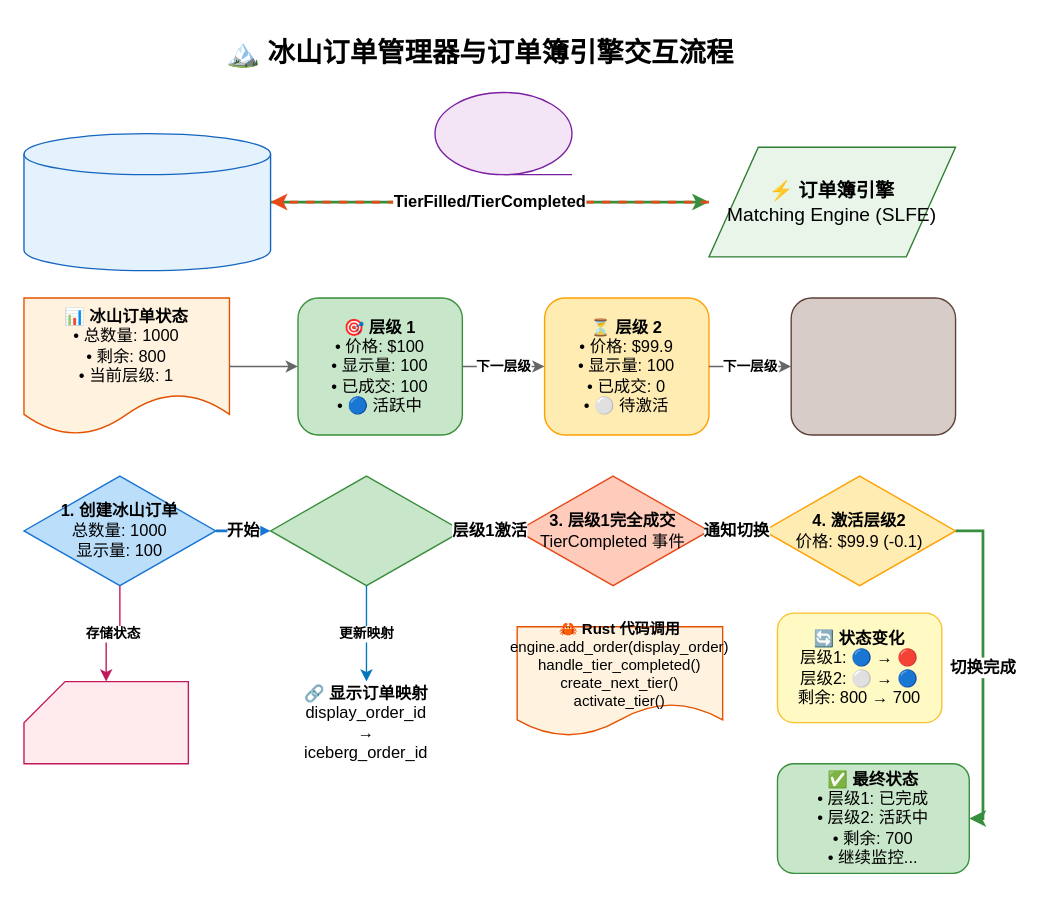
Image size: 1040x897. Some labels were removed from this diagram. The box of each missing label's shape, as (x1, y1, x2, y2) in pixels:
2. 激活层级1 发送显示订单到引擎: (269, 475, 462, 586)
🏔️ 冰山订单管理器 IcebergOrderManager: (23, 132, 271, 271)
💾 缓存池 DashMap 存储 活跃订单映射: (23, 680, 188, 764)
📨 事件通道 crossbeam::channel 容量: 10,000: (434, 91, 572, 175)
🕶️ 层级 3 • 价格: $99.8 • 显示量: 100 • 已成交: 0 • ⚫ 隐藏中: (790, 297, 956, 435)
